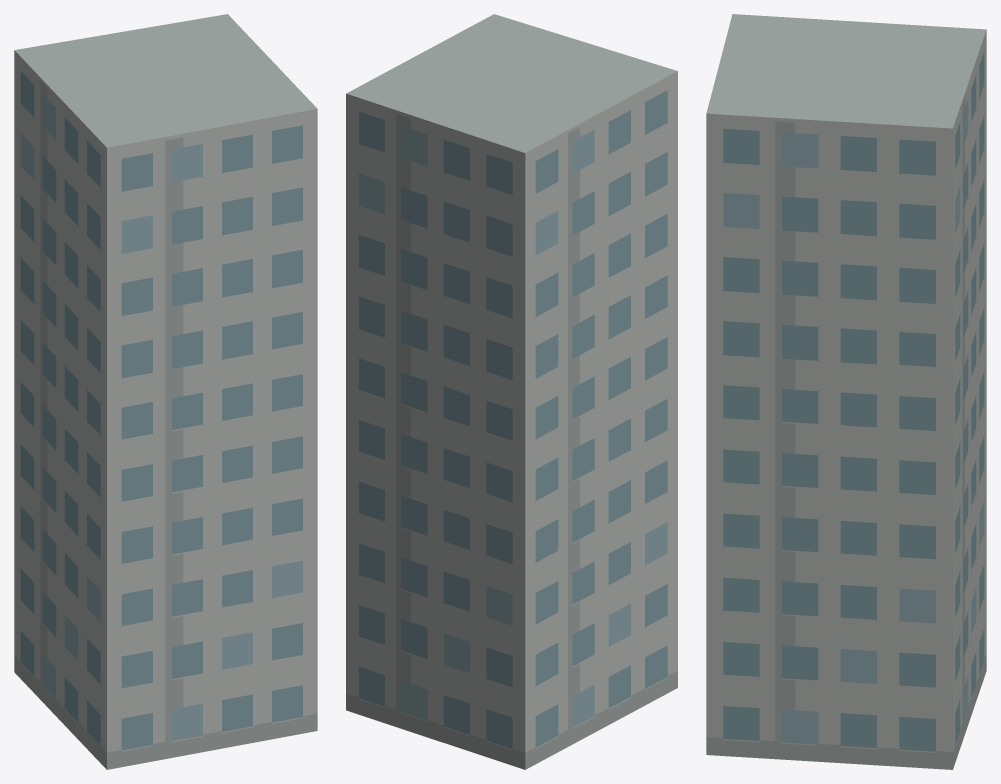
File: residential-0964fef7-240b-4d31-8459-783be6870251.glb
3 renders of one model, left to right at view 1: azimuth 30°, elevation 25°; view 2: azimuth 150°, elevation 25°; view 3: azimuth 270°, elevation 25°, orthographic. The views are drawn at different scales.
Parts seen in each view (by area): view 1: residential-0964fef7-240b-4d31-8459-783be6870251.tmp; view 2: residential-0964fef7-240b-4d31-8459-783be6870251.tmp; view 3: residential-0964fef7-240b-4d31-8459-783be6870251.tmp.
Boxes of the visible parts, bbox=[...] form: residential-0964fef7-240b-4d31-8459-783be6870251.tmp: bbox=[14, 14, 317, 769]; residential-0964fef7-240b-4d31-8459-783be6870251.tmp: bbox=[346, 14, 677, 769]; residential-0964fef7-240b-4d31-8459-783be6870251.tmp: bbox=[706, 14, 986, 769].
Bounding box in the file's own units: 16.1 × 42 × 16.64.
